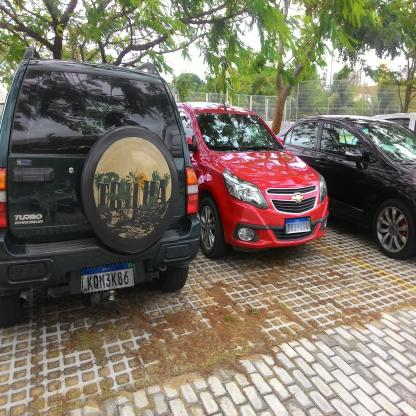PlacaM: (81, 260, 135, 295), (284, 216, 312, 235)
